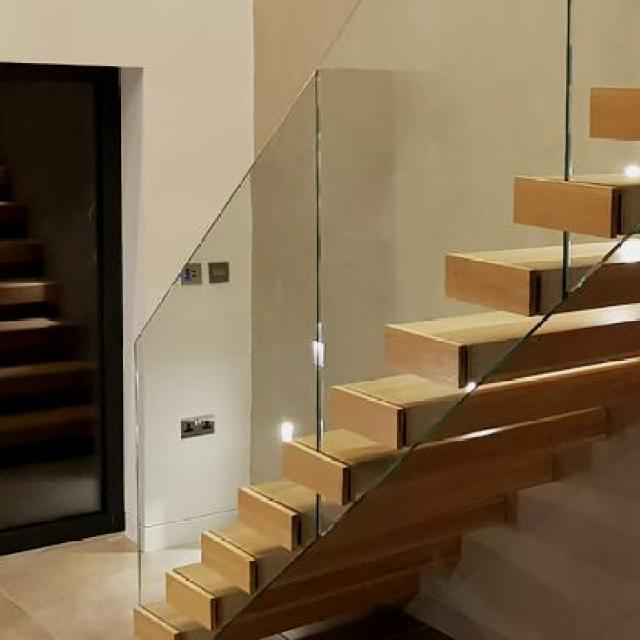stair: (114, 55, 640, 640)
